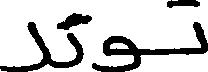X: (0, 17, 48, 71), (101, 31, 140, 71), (190, 0, 207, 58), (67, 8, 81, 71)
